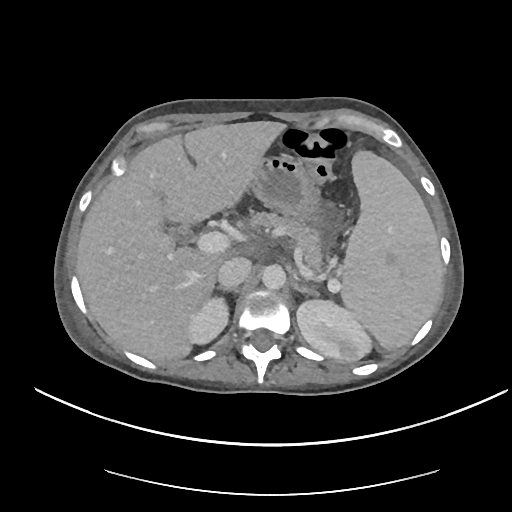Lesion: (337, 335, 365, 362)
